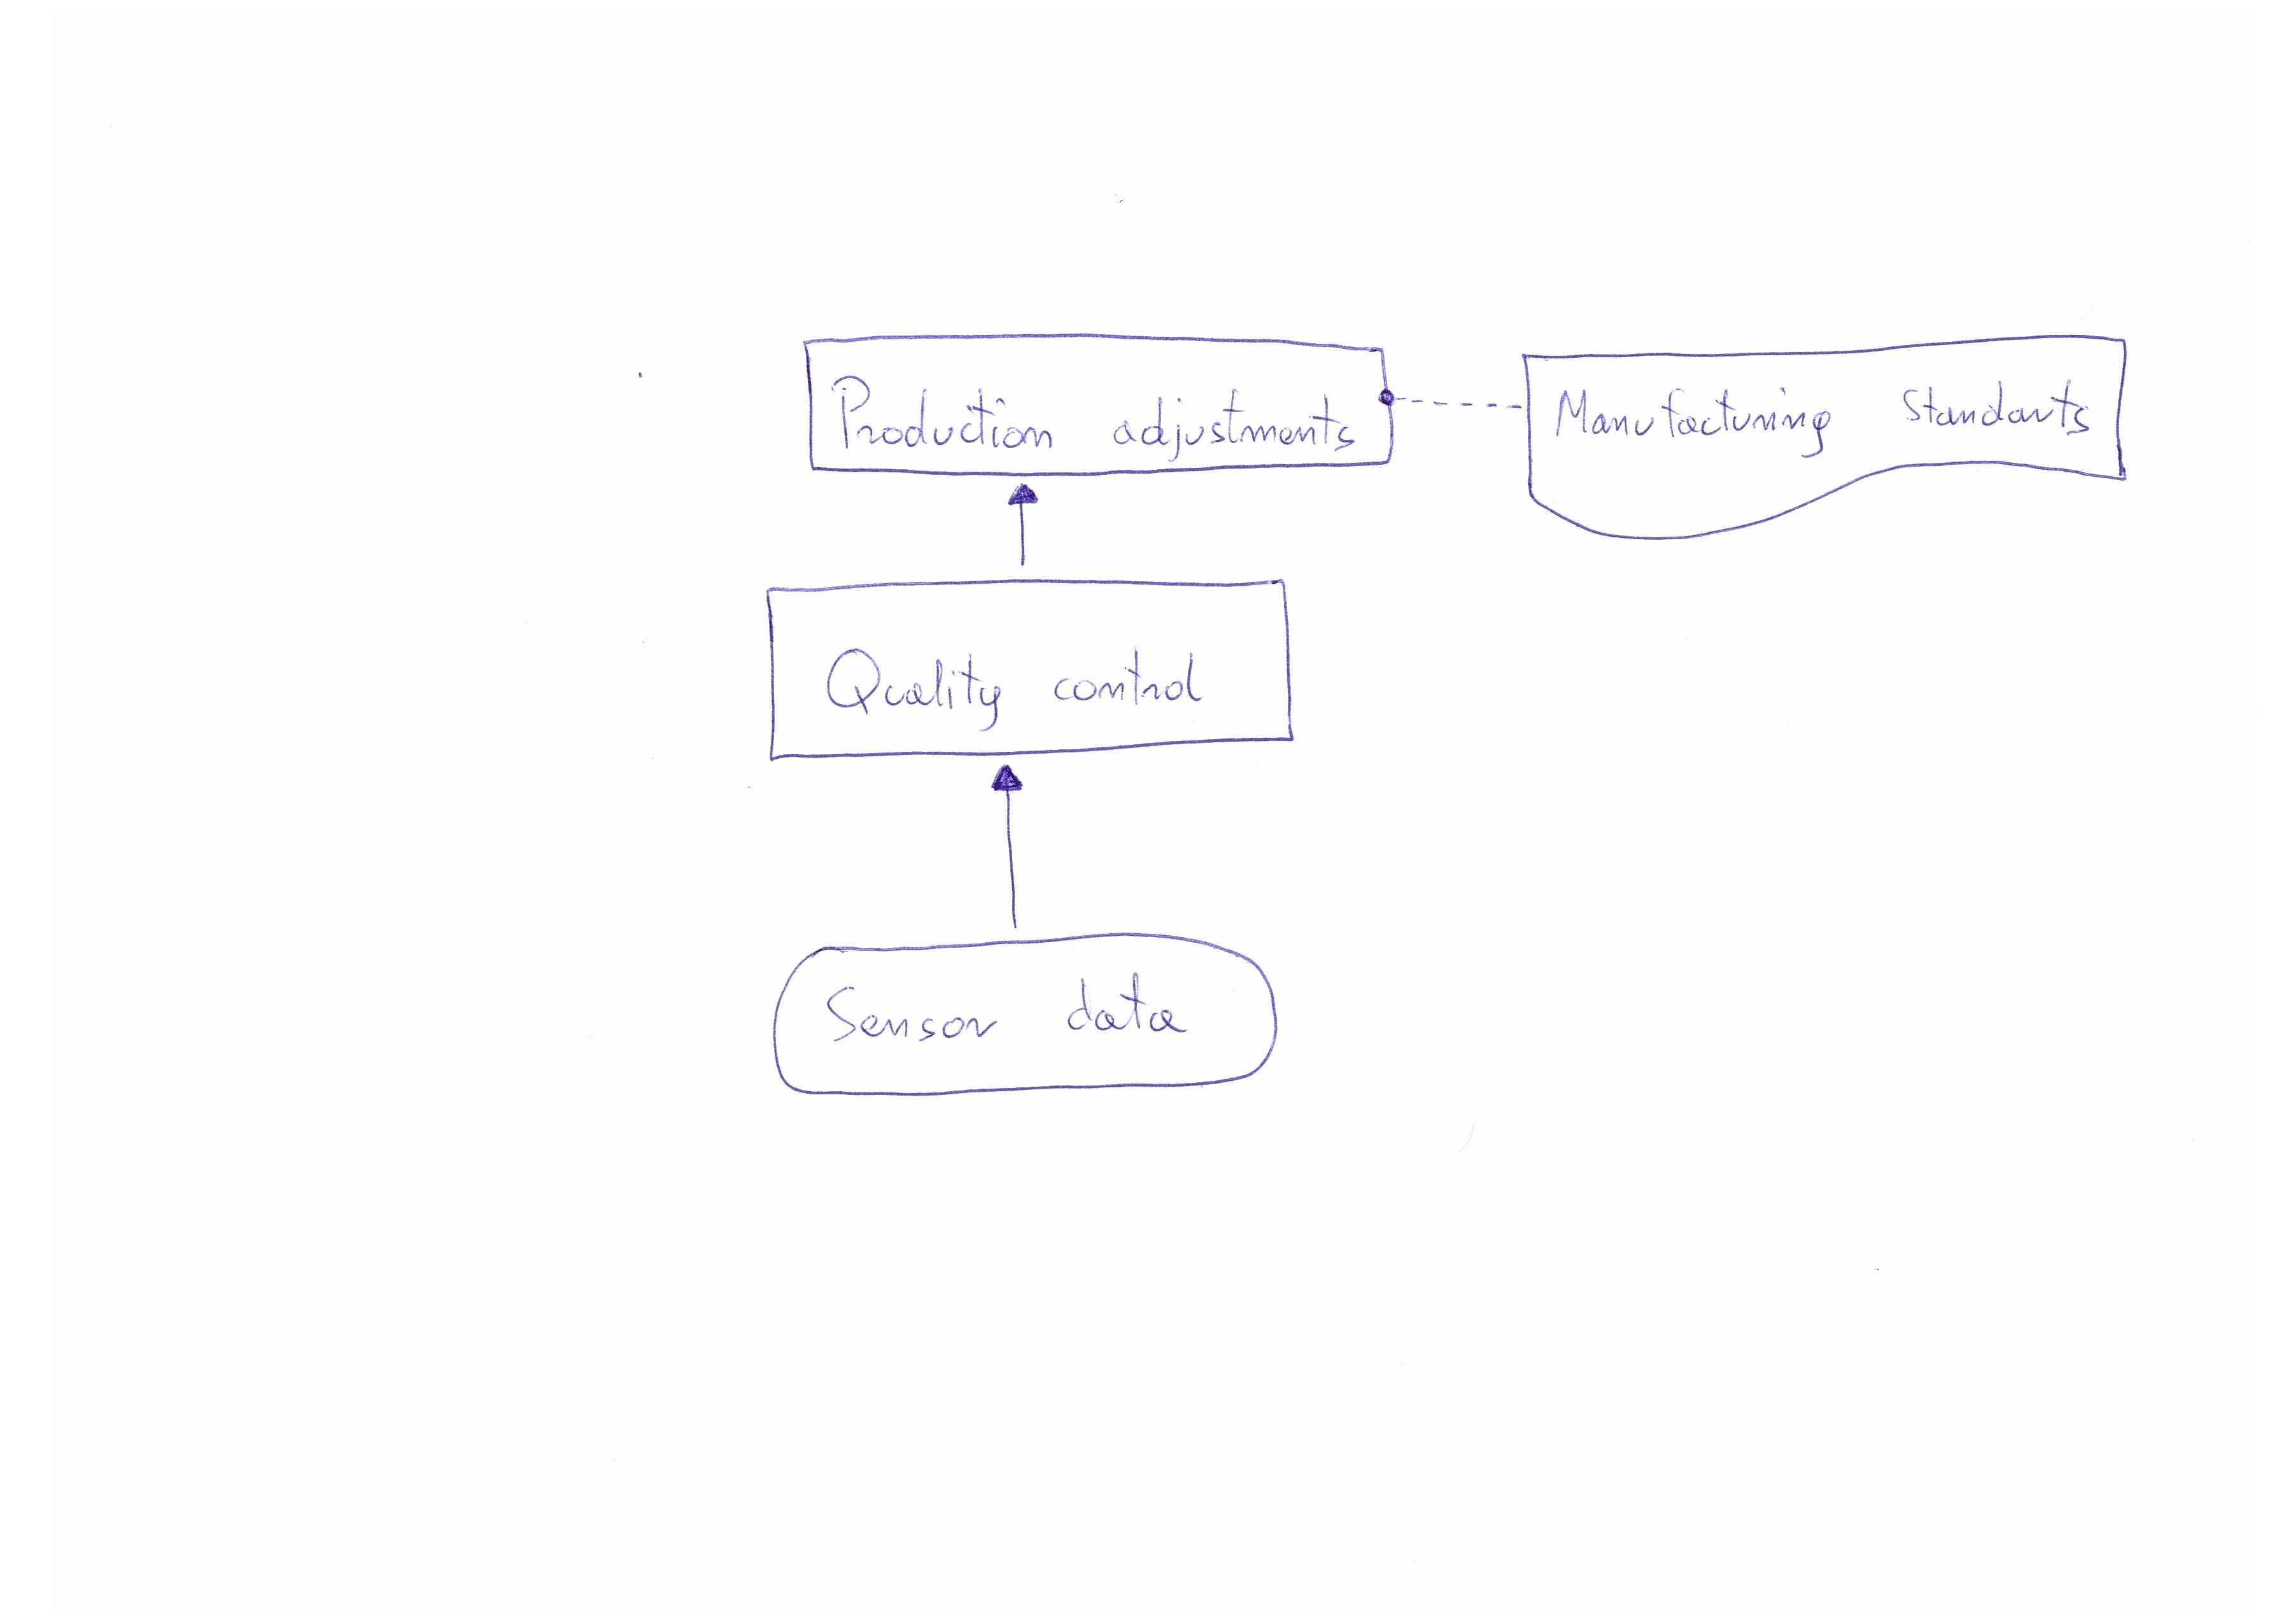arrow_authority_requirement: (1378, 378, 1525, 438)
arrow_information_requirement: (975, 756, 1047, 935), (998, 480, 1051, 566)
node_decision: (754, 573, 1307, 759), (800, 327, 1400, 480)
node_input_data: (756, 926, 1295, 1102)
node_knowledge_source: (1520, 325, 2156, 543)
text: (822, 369, 1369, 460), (1546, 376, 2102, 462), (817, 633, 1218, 733), (822, 968, 1202, 1056)
